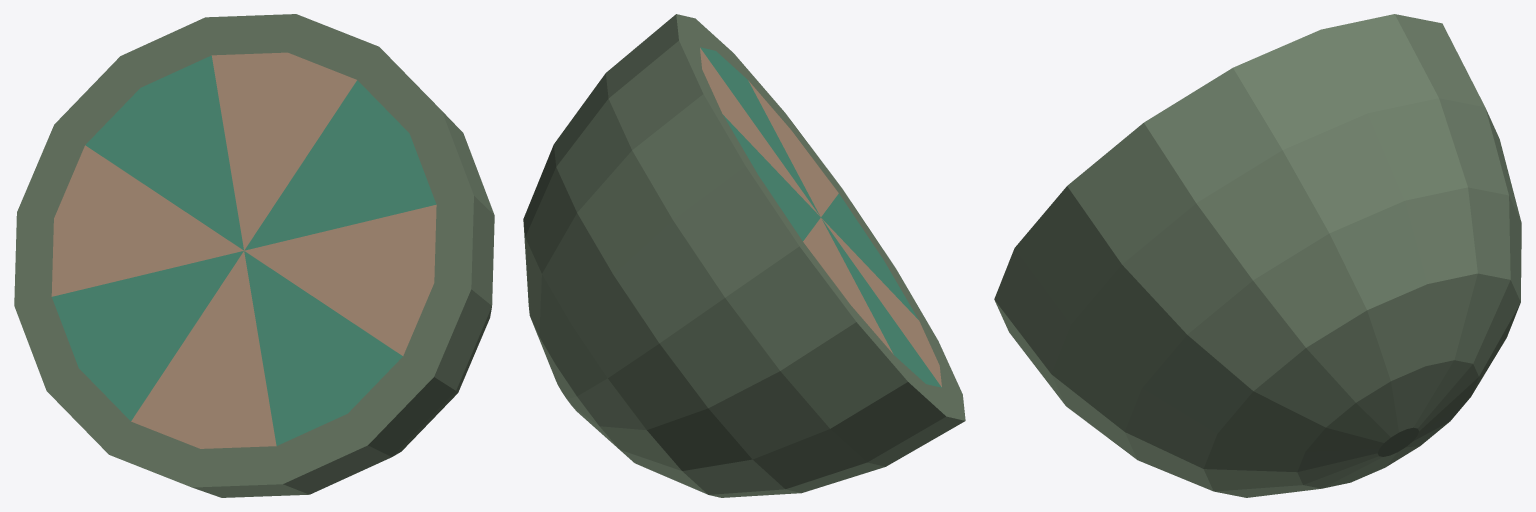
Rendered from LemonCut.fbx.
3 views of the same model, side by side, from view 1: azimuth 30°, elevation 25°; view 2: azimuth 150°, elevation 25°; view 3: azimuth 270°, elevation 25° (orthographic). The views are drawn at different scales.
Parts seen in each view (by area): view 1: half_lemon; view 2: half_lemon; view 3: half_lemon.
Boxes of the visible parts, x1,y1,x2,y2 form: half_lemon: (14,14,494,497); half_lemon: (523,14,965,497); half_lemon: (994,14,1521,497).
Size of the model in its own units: 11.87 by 12.16 by 12.29.
